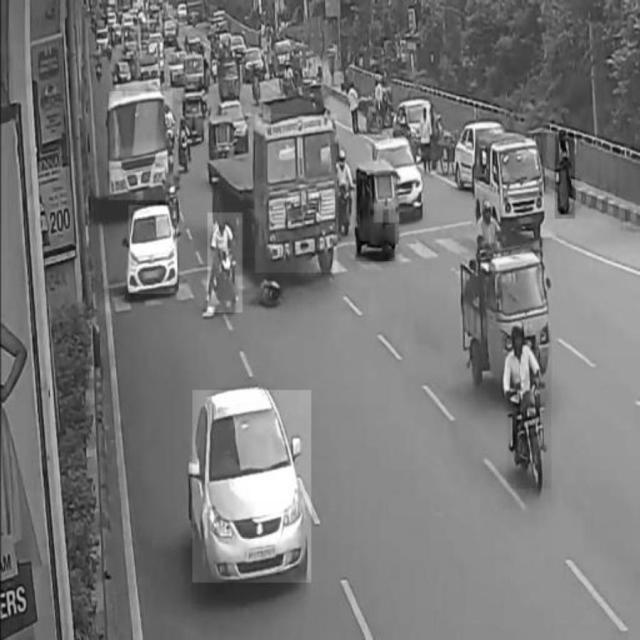person: (556, 134, 576, 218)
vehicle: (193, 391, 311, 583), (255, 114, 337, 272), (463, 257, 551, 381), (507, 330, 551, 488), (109, 92, 173, 200), (474, 130, 542, 230), (129, 206, 177, 294), (374, 139, 424, 222), (355, 170, 395, 261), (207, 213, 242, 313)
